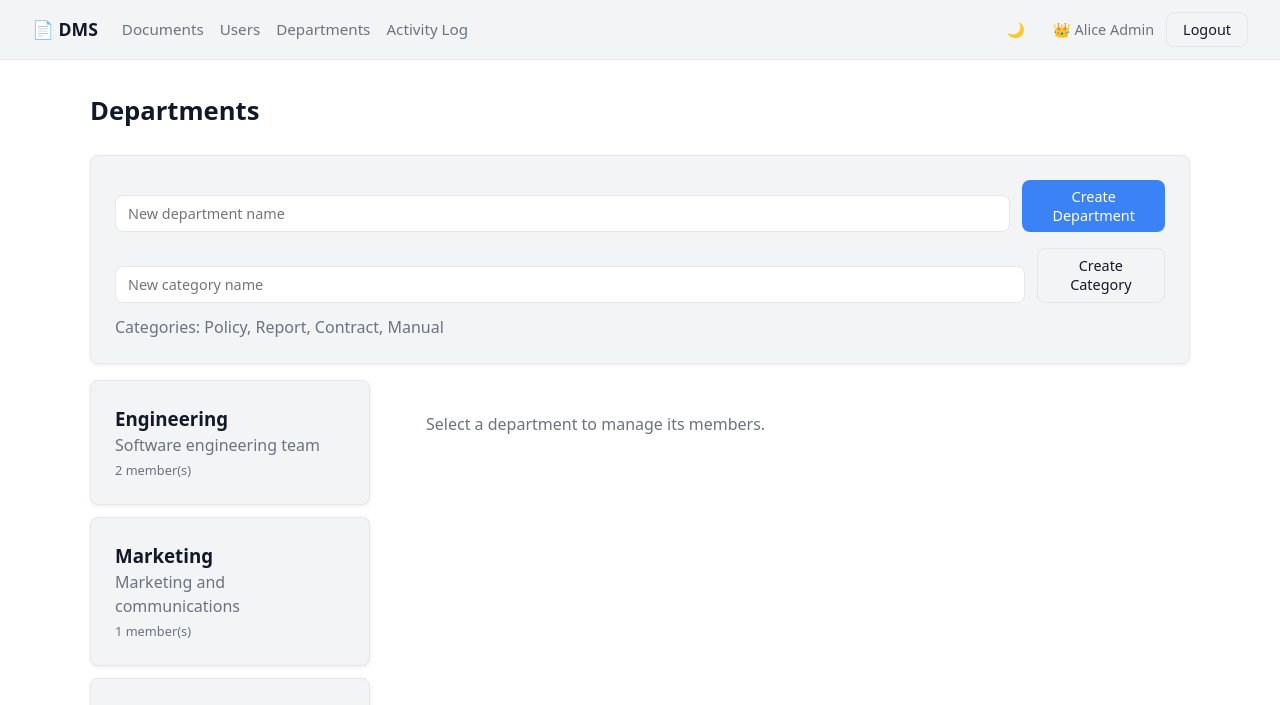
Test: Admin Departments Page › assigns a user to a department
Click the element with test id "dept-card" that starts with "Engineering": (230, 443) [90,380,370,505]
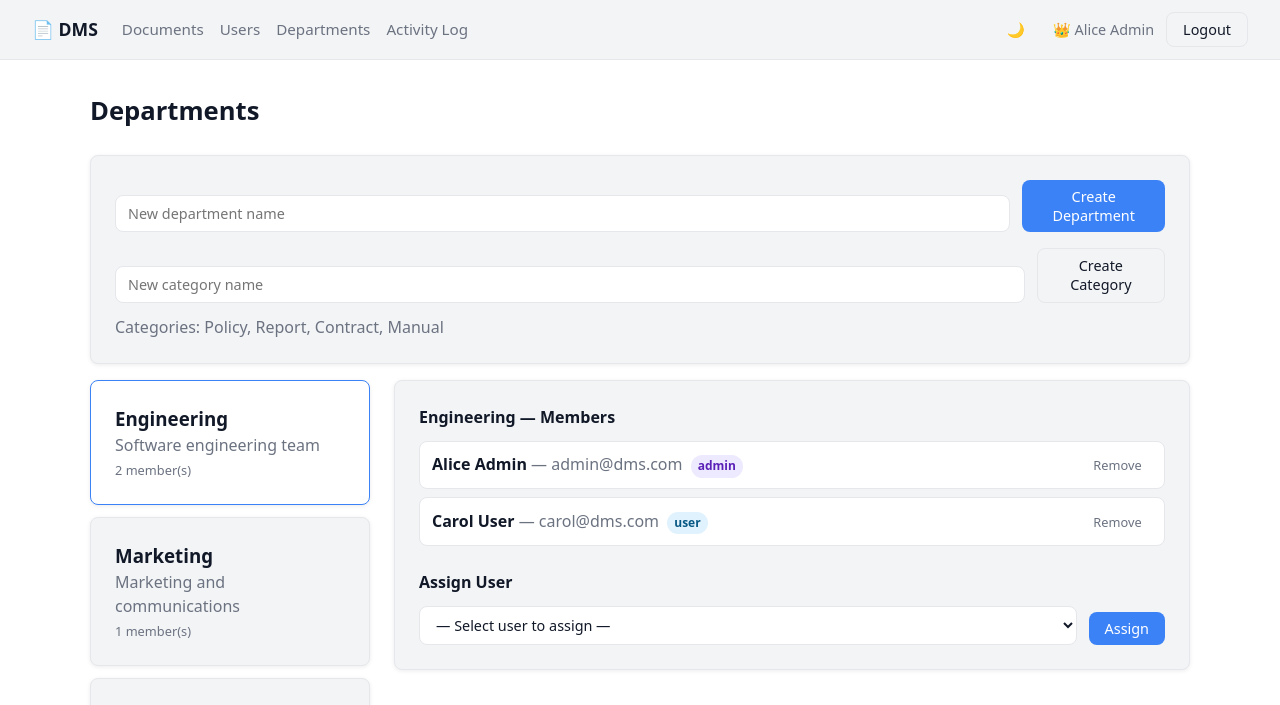
Select "Bob User (bob@dms.com)" in the dropdown with test id "assign-user-select": (748, 626) [419,606,1077,645]
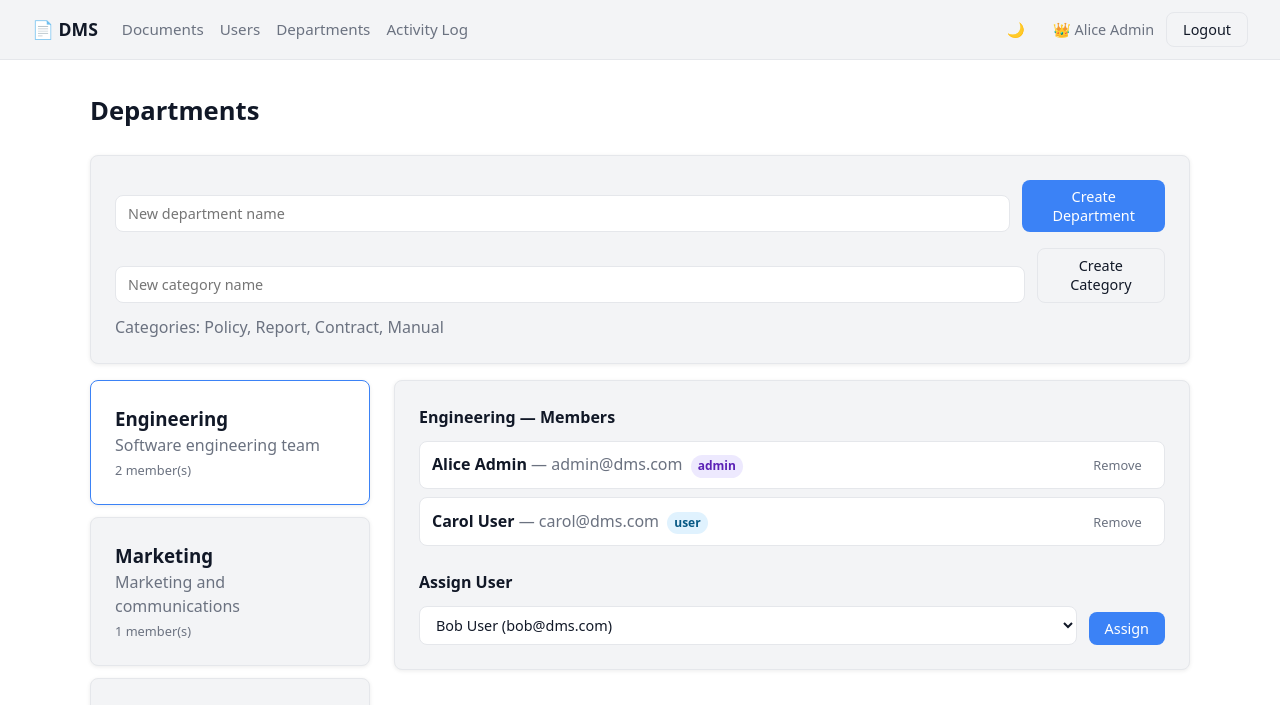
Click the button with test id "assign-user-btn": (1128, 629) [1089,612,1166,645]
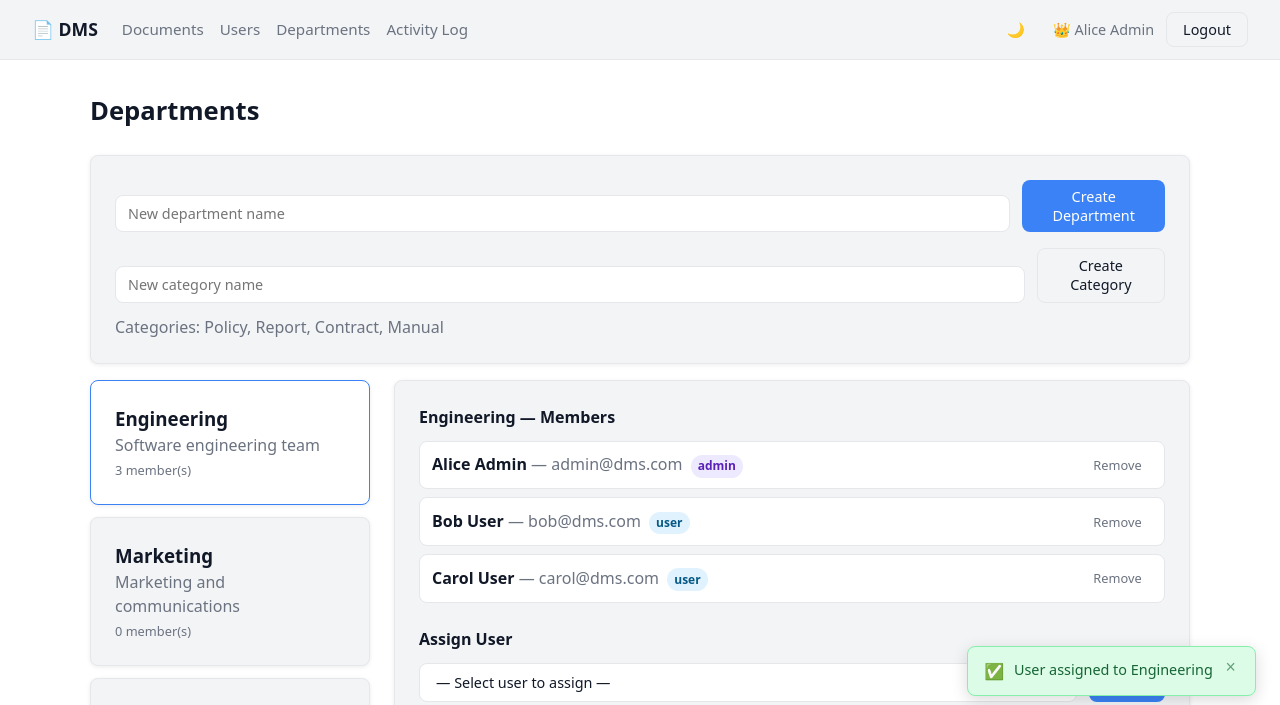
Expected: the text "User assigned to Engineering" is shown, [1014,659,1213,681]
